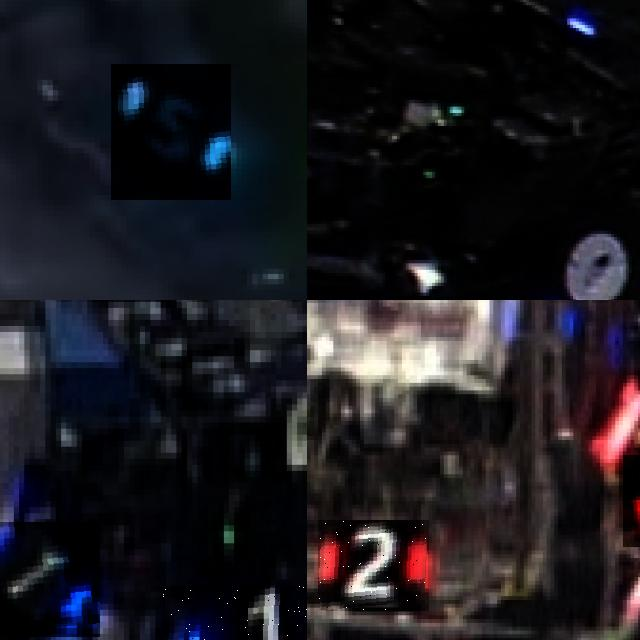B1: (0, 522, 100, 636), (163, 585, 307, 640)
B5: (111, 64, 231, 200)
R2: (318, 520, 429, 611), (622, 455, 640, 546)
